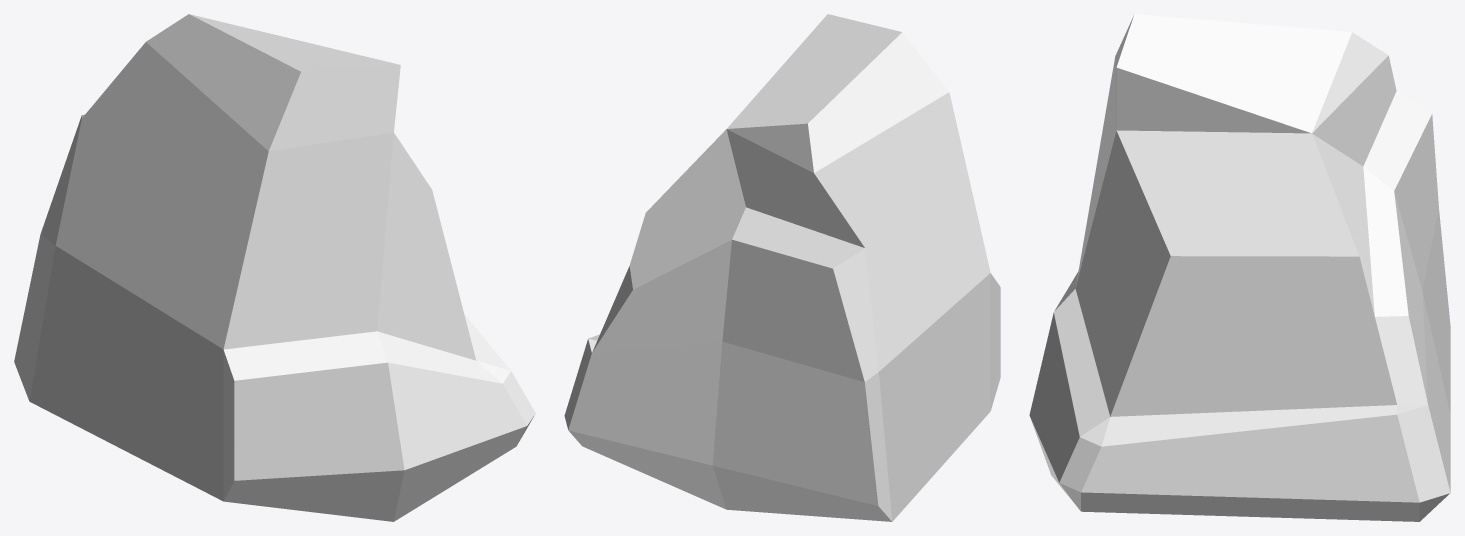
File: Rock2.fbx
The picture shows the model from 3 angles, left to right: view 1: azimuth 30°, elevation 25°; view 2: azimuth 150°, elevation 25°; view 3: azimuth 270°, elevation 25°; orthographic projection. The views are drawn at different scales.
Parts seen in each view (by area): view 1: Rock_2_Cube.016; view 2: Rock_2_Cube.016; view 3: Rock_2_Cube.016.
Boxes of the visible parts, bbox=[...] form: Rock_2_Cube.016: bbox=[14, 14, 535, 521]; Rock_2_Cube.016: bbox=[564, 14, 1000, 521]; Rock_2_Cube.016: bbox=[1029, 14, 1450, 521].
Bounding box in the file's own units: 56.14 × 64.56 × 56.5.
